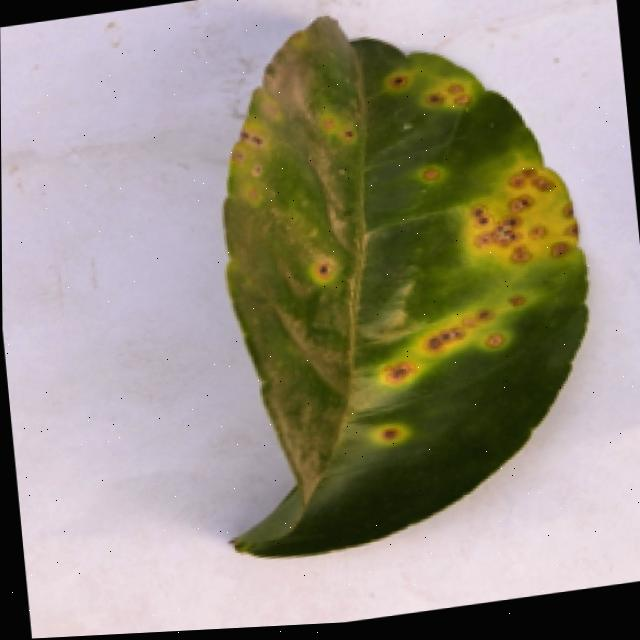canker: (0, 0, 640, 639), (226, 20, 588, 557), (358, 282, 536, 443), (452, 160, 580, 267), (349, 49, 492, 128), (303, 104, 370, 153), (232, 121, 269, 205), (405, 163, 449, 192)
